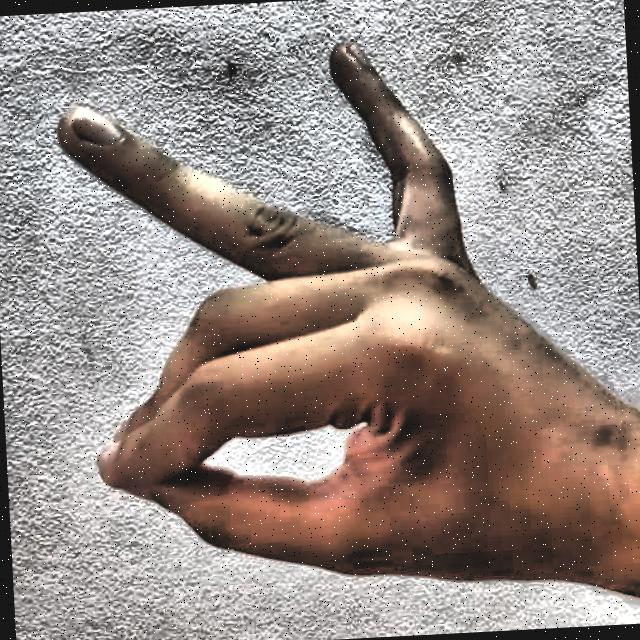Na: (34, 6, 592, 630)
